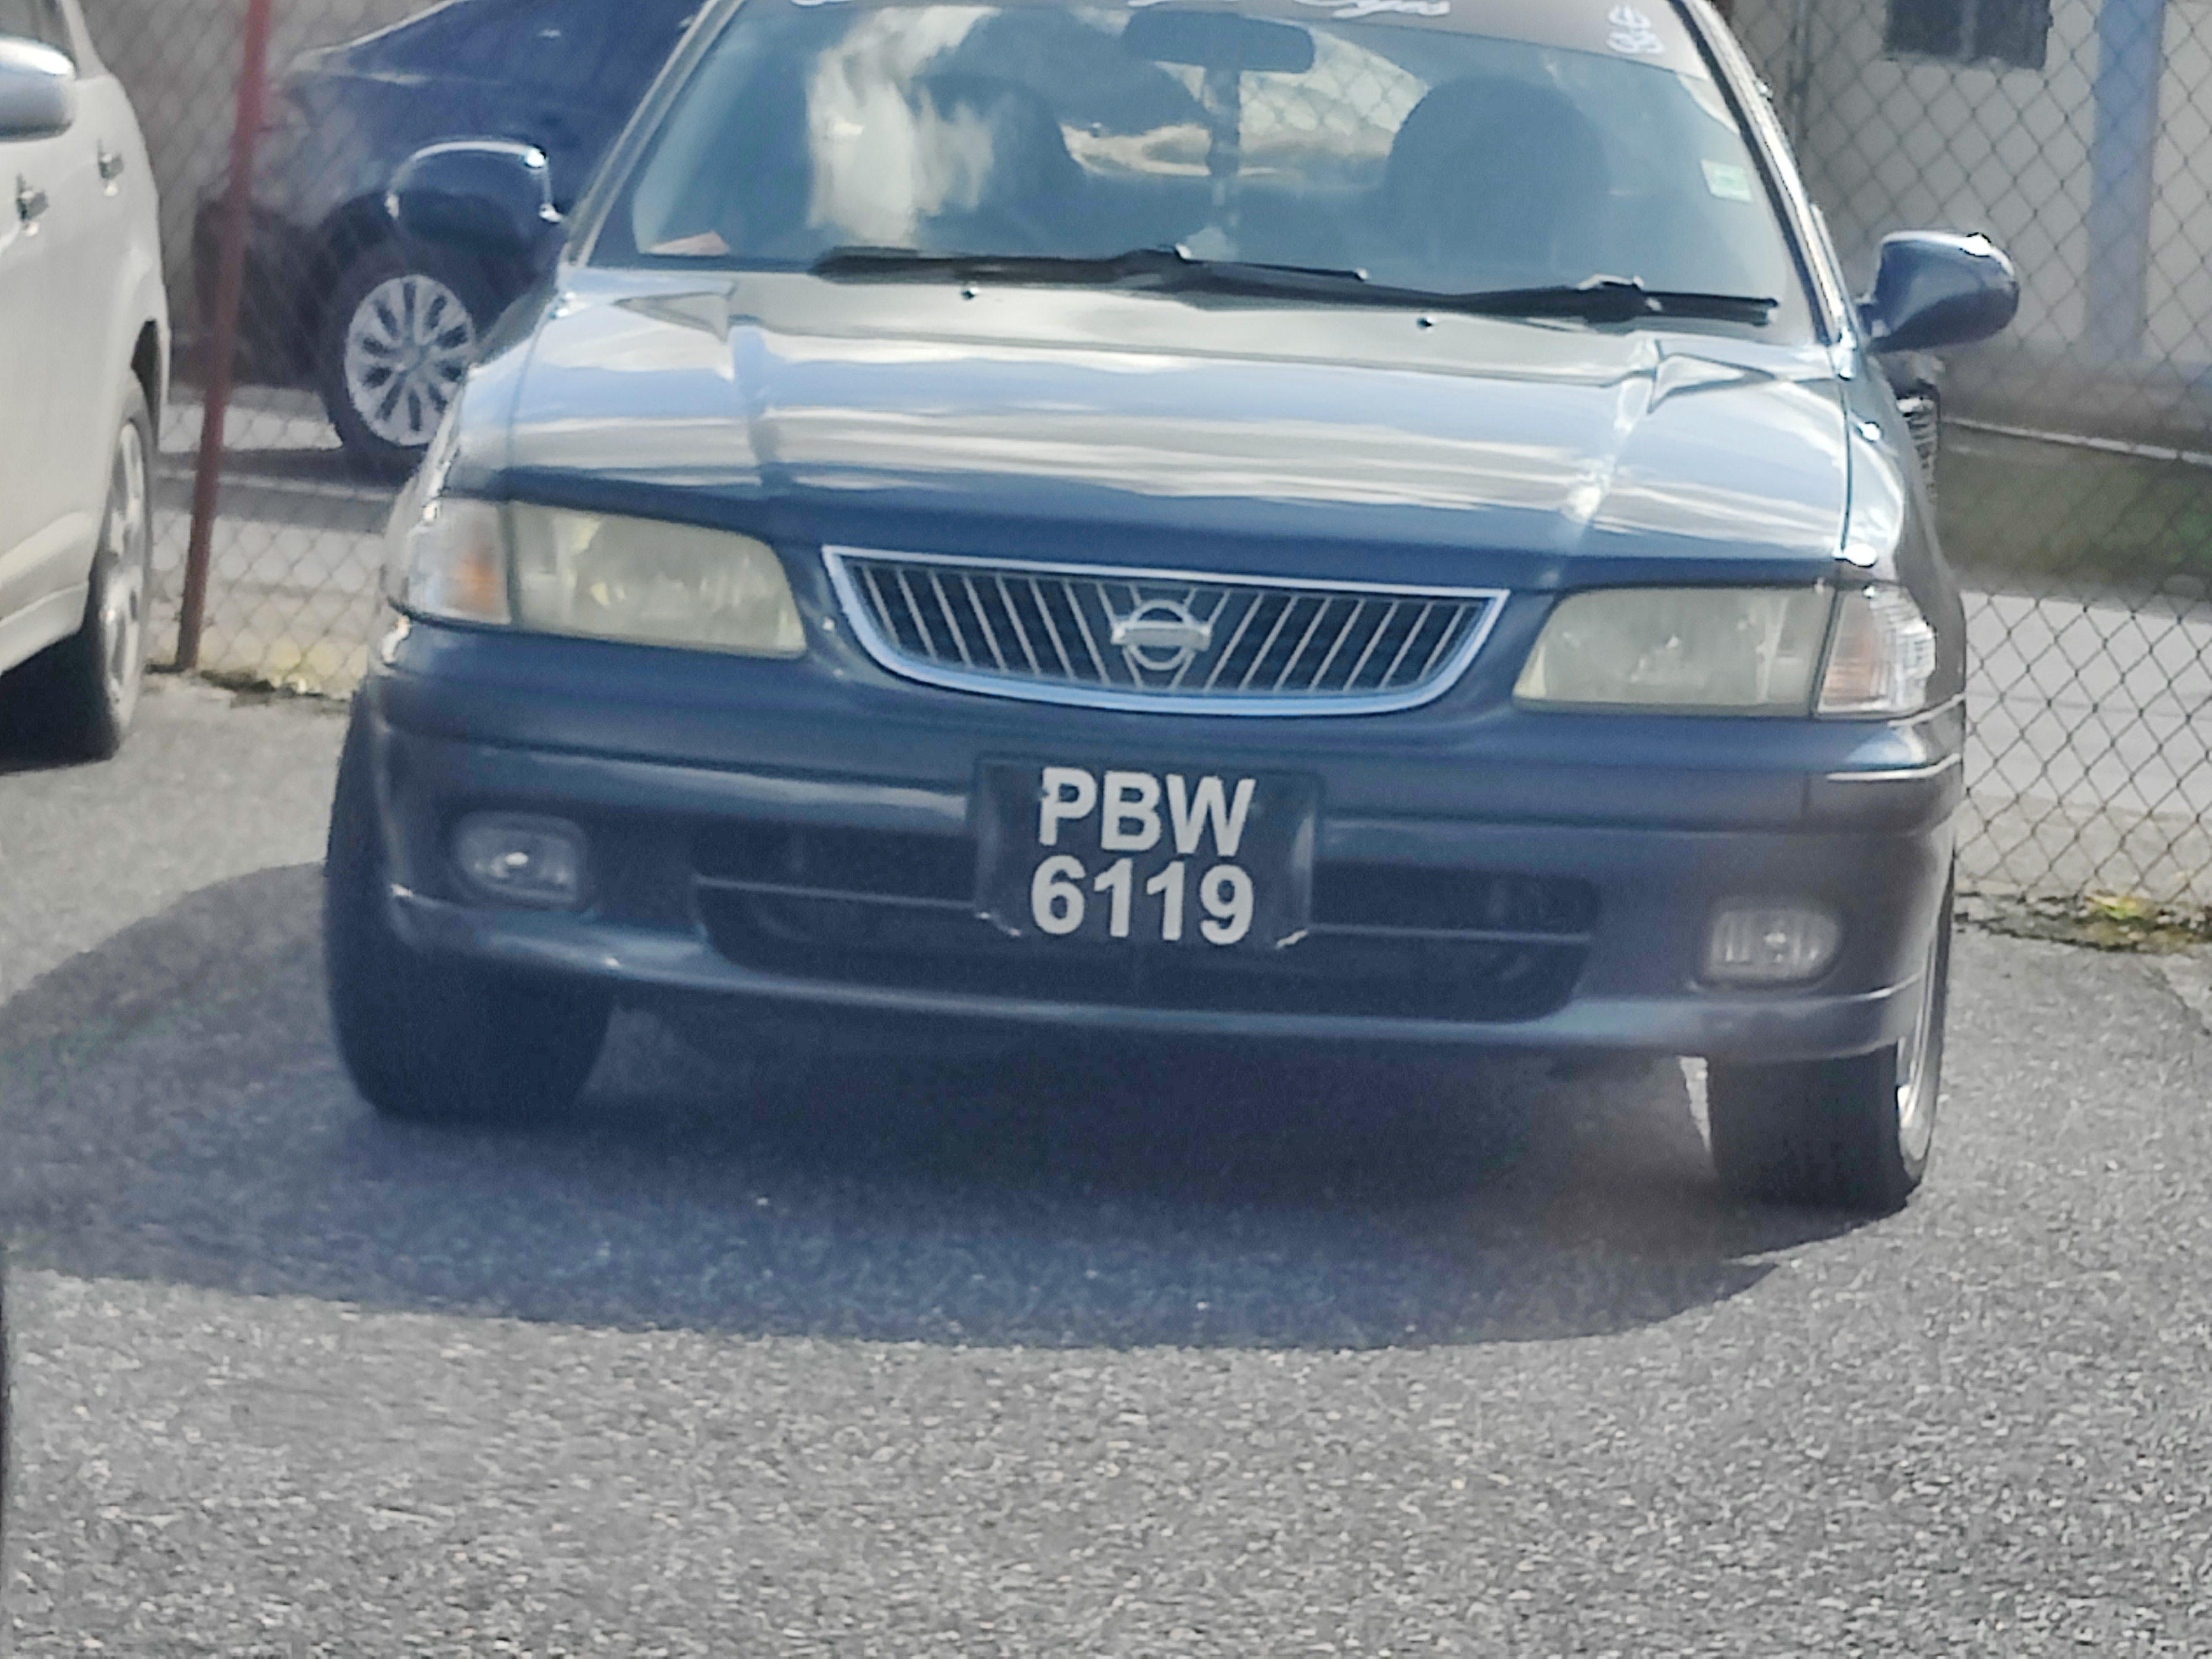License-Plate: (1003, 760, 1290, 935)
